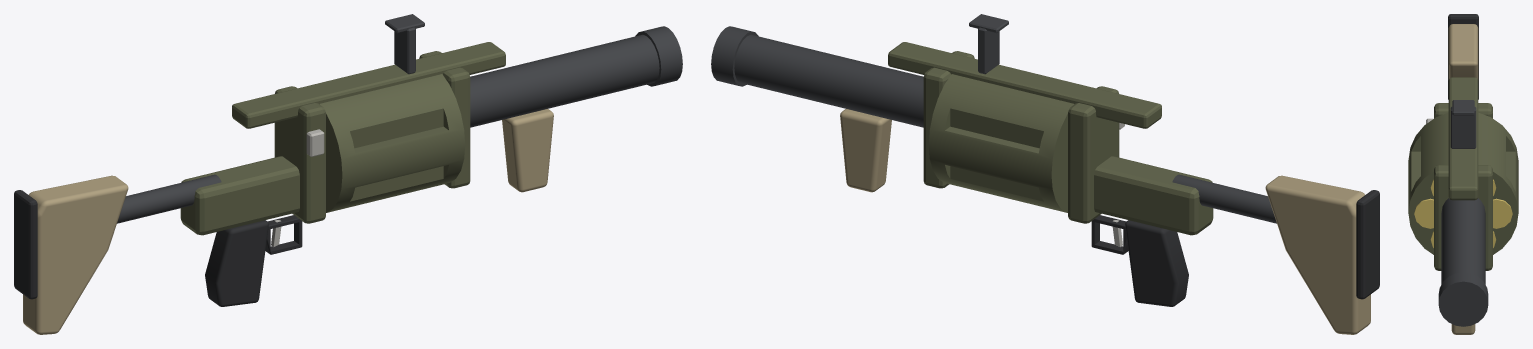
The model's file is launcher.glb.
3 views of the same model, side by side, from view 1: azimuth 30°, elevation 25°; view 2: azimuth 150°, elevation 25°; view 3: azimuth 270°, elevation 25° (orthographic). The views are drawn at different scales.
Visible parts, largest first — view 1: gun_frame, gun_mag; view 2: gun_frame, gun_mag; view 3: gun_frame, gun_mag.
Part boxes in pixels (bbox=[...]): gun_frame: bbox=[14, 14, 682, 334]; gun_mag: bbox=[319, 74, 465, 212]; gun_frame: bbox=[711, 14, 1379, 334]; gun_mag: bbox=[928, 74, 1074, 212]; gun_frame: bbox=[1434, 14, 1492, 334]; gun_mag: bbox=[1408, 112, 1518, 254].
Size of the model in its own units: 0.896 by 0.3175 by 0.15.
